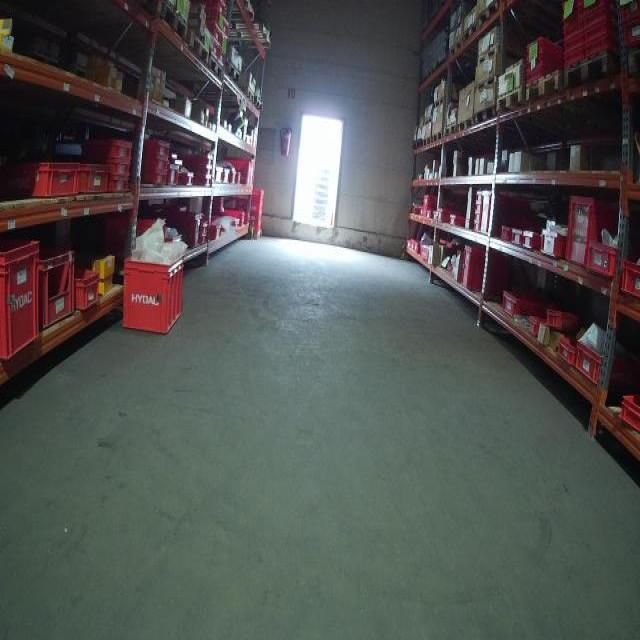pallet: (564, 49, 619, 93), (525, 67, 563, 105), (160, 0, 188, 44), (496, 85, 525, 116), (188, 30, 209, 67), (479, 0, 499, 28), (475, 105, 498, 126), (628, 49, 640, 82), (210, 56, 224, 83), (464, 22, 479, 43), (459, 115, 474, 134), (226, 64, 240, 84), (445, 124, 459, 138), (450, 41, 462, 56), (422, 135, 433, 149), (434, 128, 444, 143), (244, 89, 255, 102)
small_load_carrier: (118, 253, 184, 334), (3, 236, 44, 357), (564, 197, 614, 269), (477, 190, 533, 244), (41, 244, 77, 328), (9, 157, 77, 198), (574, 339, 619, 387), (460, 245, 501, 294), (68, 160, 111, 196), (76, 262, 103, 317), (587, 243, 622, 283), (73, 137, 134, 158), (583, 15, 616, 49), (171, 208, 199, 248), (582, 34, 614, 66), (221, 154, 252, 187), (501, 296, 538, 323), (538, 226, 566, 261), (561, 20, 588, 55), (554, 334, 583, 364), (620, 261, 638, 304), (519, 225, 543, 256), (619, 392, 639, 429), (169, 146, 216, 161), (169, 173, 213, 189), (547, 307, 579, 328), (141, 136, 172, 157), (141, 171, 168, 195), (168, 161, 216, 173), (585, 1, 617, 18), (563, 1, 586, 22), (108, 159, 134, 177), (141, 157, 172, 171), (559, 50, 582, 68), (108, 177, 130, 194), (500, 221, 513, 244), (510, 231, 524, 250)
